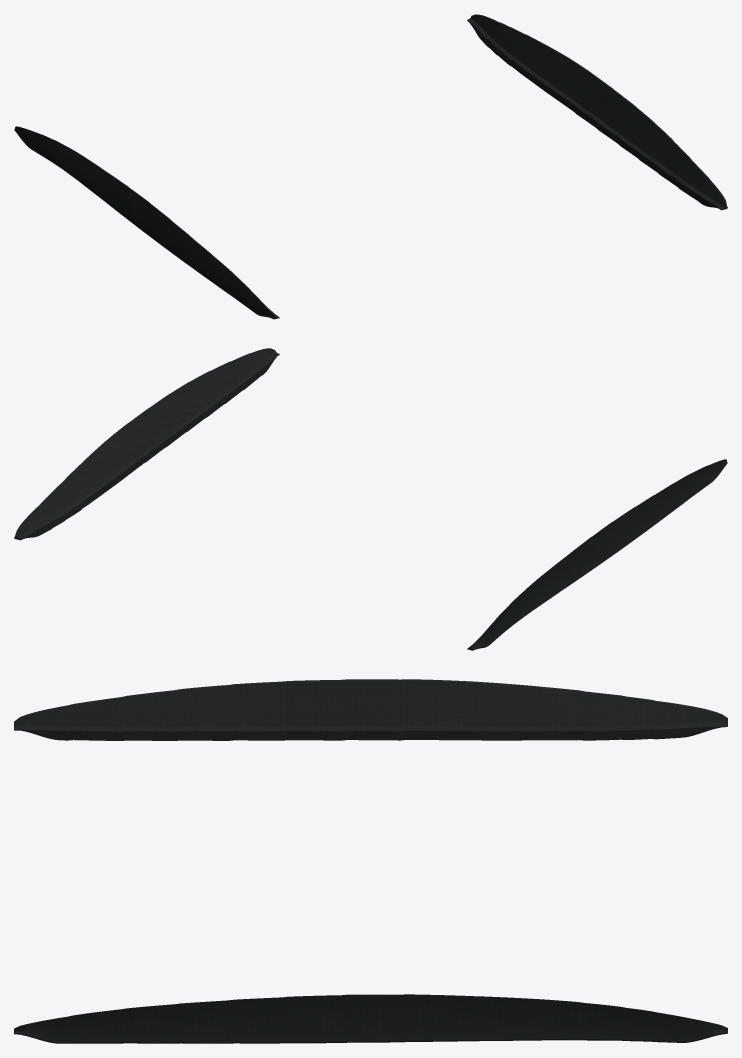
The model's file is RA21_rs_sculpted_skirts.glb.
The picture shows the model from 3 angles, top to bottom: view 1: azimuth 30°, elevation 25°; view 2: azimuth 150°, elevation 25°; view 3: azimuth 270°, elevation 25°; orthographic projection. The views are drawn at different scales.
Parts seen in each view (by area): view 1: MOD_ND_RA21_skirt_1, MOD_ND_RA21_skirt_neg1; view 2: MOD_ND_RA21_skirt_1, MOD_ND_RA21_skirt_neg1; view 3: MOD_ND_RA21_skirt_neg1, MOD_ND_RA21_skirt_1.
Part boxes in pixels (x1,y1,x2,y2): MOD_ND_RA21_skirt_1: (467,14,727,210); MOD_ND_RA21_skirt_neg1: (14,126,279,319); MOD_ND_RA21_skirt_1: (14,348,279,540); MOD_ND_RA21_skirt_neg1: (467,459,727,650); MOD_ND_RA21_skirt_neg1: (14,679,727,740); MOD_ND_RA21_skirt_1: (14,994,727,1043).
Bounding box in the file's own units: 1.63 × 0.1253 × 1.56.
1 material, 1 textured.
